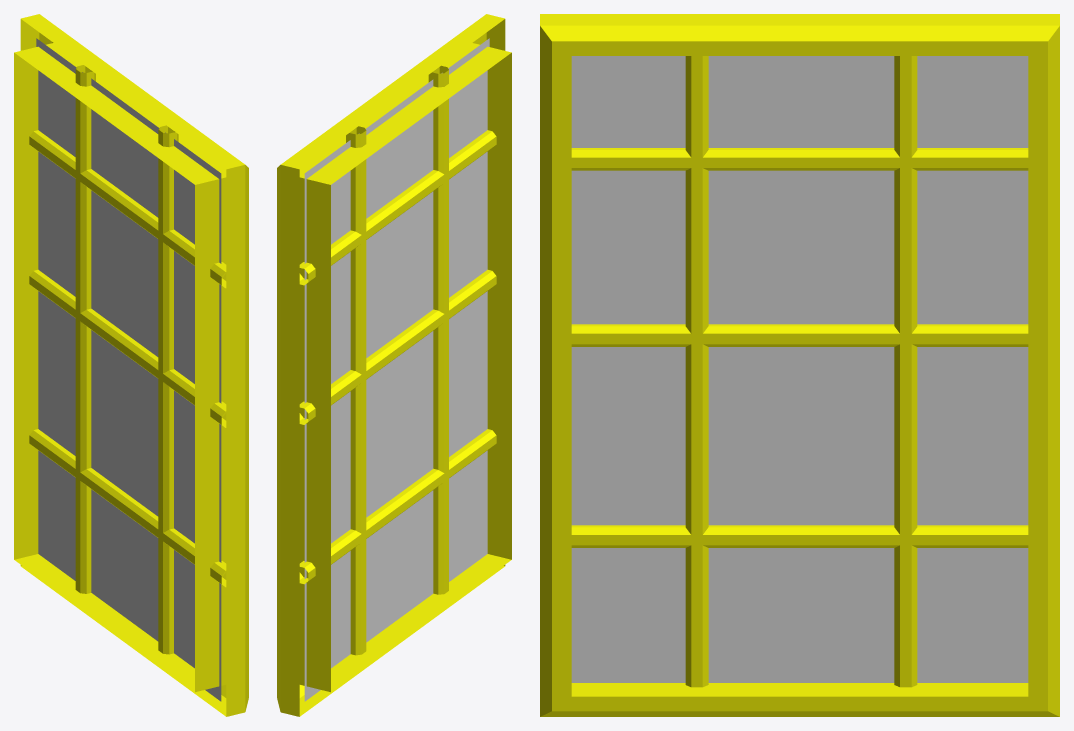
The model's file is Window.fbx.
3 views of the same model, side by side, from view 1: azimuth 30°, elevation 25°; view 2: azimuth 150°, elevation 25°; view 3: azimuth 270°, elevation 25° (orthographic). The views are drawn at different scales.
Visible parts, largest first — view 1: Window; view 2: Window; view 3: Window.
Part boxes in pixels (bbox=[...]): Window: bbox=[14, 14, 248, 716]; Window: bbox=[277, 14, 511, 716]; Window: bbox=[540, 14, 1059, 716].
Size of the model in its own units: 5.51 by 62.83 by 42.83.
